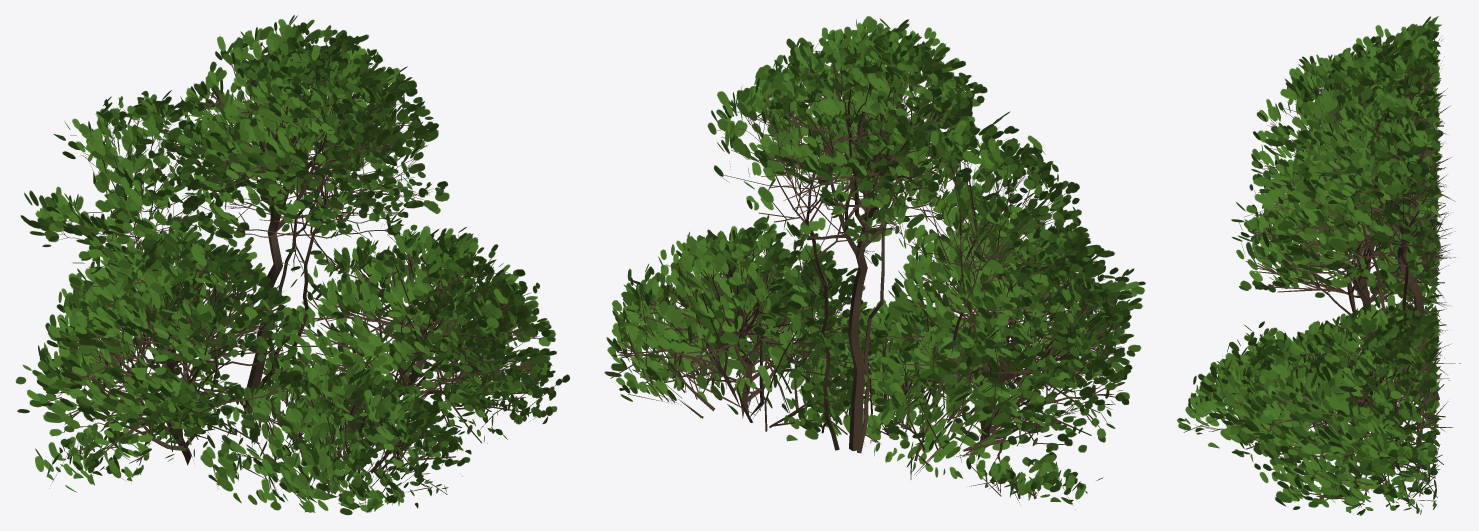
The picture shows the model from 3 angles, left to right: view 1: azimuth 30°, elevation 25°; view 2: azimuth 150°, elevation 25°; view 3: azimuth 270°, elevation 25°; orthographic projection. The views are drawn at different scales.
Visible parts, largest first — view 1: oak 01.001_trunk_Mat.001_0.219; view 2: oak 01.001_trunk_Mat.001_0.219; view 3: oak 01.001_trunk_Mat.001_0.219.
Part boxes in pixels (left/top/right/bottom): oak 01.001_trunk_Mat.001_0.219: left=15, top=15, right=569, bottom=515; oak 01.001_trunk_Mat.001_0.219: left=604, top=16, right=1145, bottom=504; oak 01.001_trunk_Mat.001_0.219: left=1177, top=16, right=1460, bottom=515.
Bounding box in the file's own units: 4.16 × 3.33 × 2.23.
2 materials, 1 textured.
